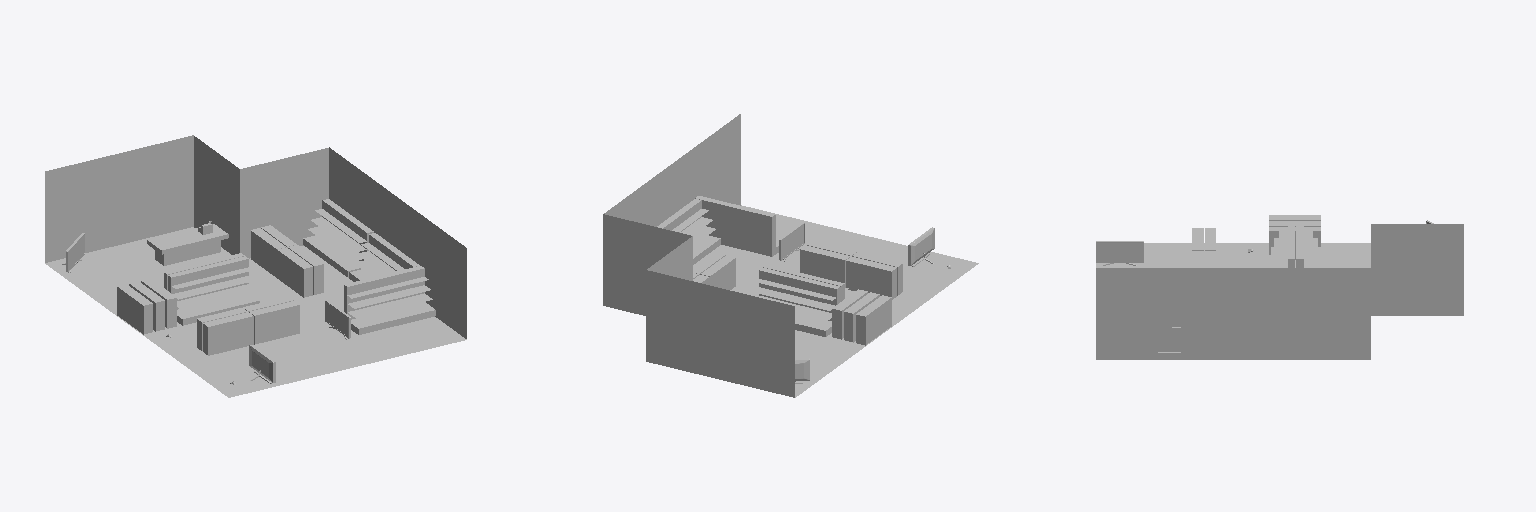
The model's file is layout2.obj.
3 renders of one model, left to right at view 1: azimuth 30°, elevation 25°; view 2: azimuth 150°, elevation 25°; view 3: azimuth 270°, elevation 25°, orthographic.
Parts seen in each view (by area): view 1: Plane, Cube.004, Cube.010_Cube.011, Cube.003, Cube.001, Cube.019_Cube.020, Cube.002, Cube.018_Cube.019, Cube.009_Cube.010, Cube.012_Cube.013, Cube.008_Cube.009, Cube.020_Cube.021 (+4 smaller); view 2: Plane, Cube.011_Cube.012, Cube.004, Cube.002, Cube.016_Cube.017, Cube.017_Cube.018, Cube.012_Cube.013, Cube.009_Cube.010, Cube.020_Cube.021, Cube.013_Cube.014, Cube.014_Cube.015, Cube.006; view 3: Plane, Cube.020_Cube.021, Cube.011_Cube.012, Cube.010_Cube.011.
Boxes of the visible parts, <box> form: Plane: <box>45,135,466,397</box>; Cube.004: <box>344,266,435,334</box>; Cube.010_Cube.011: <box>168,256,259,325</box>; Cube.003: <box>303,199,373,277</box>; Cube.001: <box>147,221,228,265</box>; Cube.019_Cube.020: <box>203,312,253,355</box>; Cube.002: <box>349,233,419,281</box>; Cube.018_Cube.019: <box>249,301,299,344</box>; Cube.009_Cube.010: <box>277,247,312,297</box>; Cube.012_Cube.013: <box>117,284,152,334</box>; Cube.008_Cube.009: <box>251,228,285,277</box>; Cube.020_Cube.021: <box>249,345,275,383</box>; Plane: <box>603,114,978,397</box>; Cube.011_Cube.012: <box>753,268,840,336</box>; Cube.004: <box>695,196,783,256</box>; Cube.002: <box>657,199,720,264</box>; Cube.016_Cube.017: <box>846,256,896,299</box>; Cube.017_Cube.018: <box>800,245,850,287</box>; Cube.012_Cube.013: <box>856,295,891,345</box>; Cube.009_Cube.010: <box>700,255,735,289</box>; Cube.020_Cube.021: <box>908,227,934,266</box>; Cube.013_Cube.014: <box>844,292,879,342</box>; Cube.014_Cube.015: <box>832,289,867,339</box>; Cube.006: <box>779,222,804,261</box>; Plane: <box>1096,224,1463,359</box>; Cube.020_Cube.021: <box>1096,241,1143,265</box>; Cube.011_Cube.012: <box>1296,222,1325,267</box>; Cube.010_Cube.011: <box>1266,222,1294,267</box>.
Size of the model in its own units: 23.64 by 8.74 by 31.59.